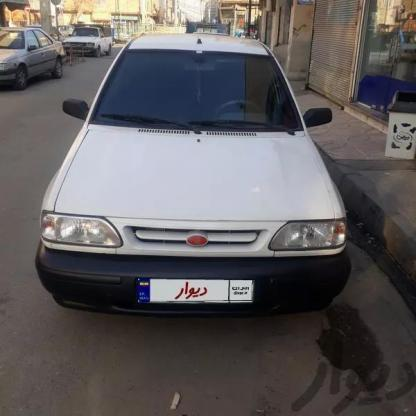Car: (33, 26, 356, 311), (0, 27, 53, 94), (64, 25, 107, 55)
